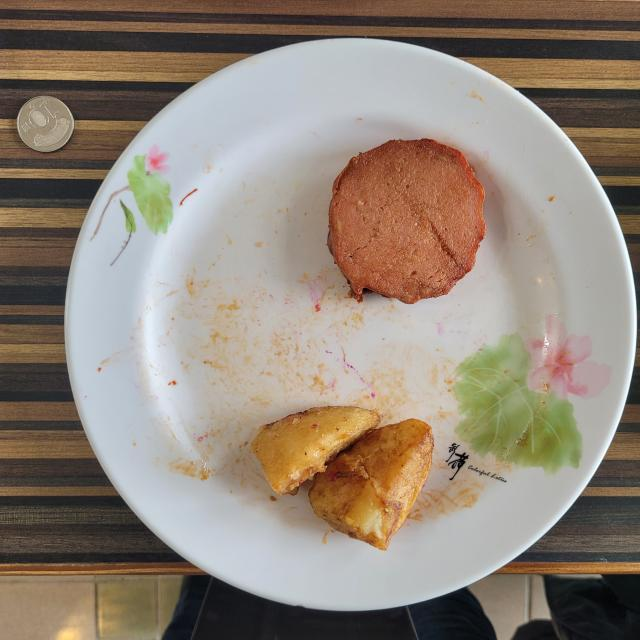Spam: (328, 139, 485, 304)
coin: (18, 96, 74, 152)
fried potato: (251, 406, 434, 550)
